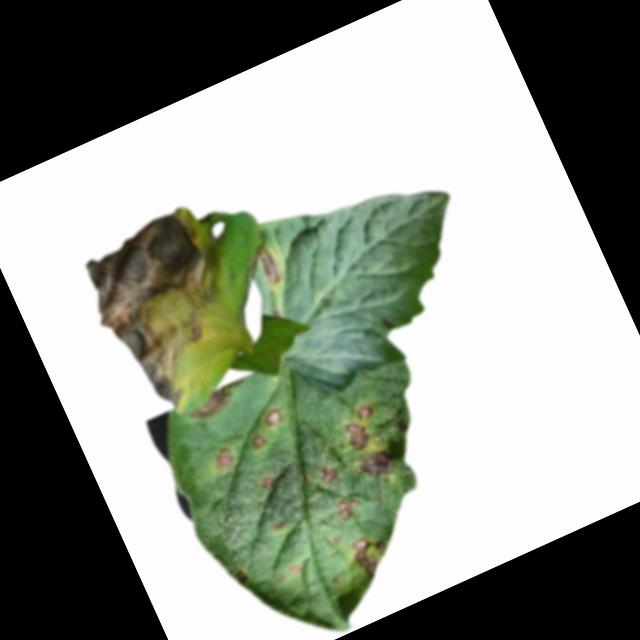Early_blight: (71, 197, 275, 422), (183, 379, 253, 429), (346, 526, 401, 585), (354, 445, 400, 483), (253, 246, 289, 294), (341, 416, 374, 455), (330, 491, 366, 525), (210, 445, 238, 476), (260, 404, 289, 433), (317, 460, 342, 486), (258, 472, 281, 494), (356, 402, 377, 421), (285, 561, 306, 580), (250, 433, 269, 452), (268, 519, 286, 536)
